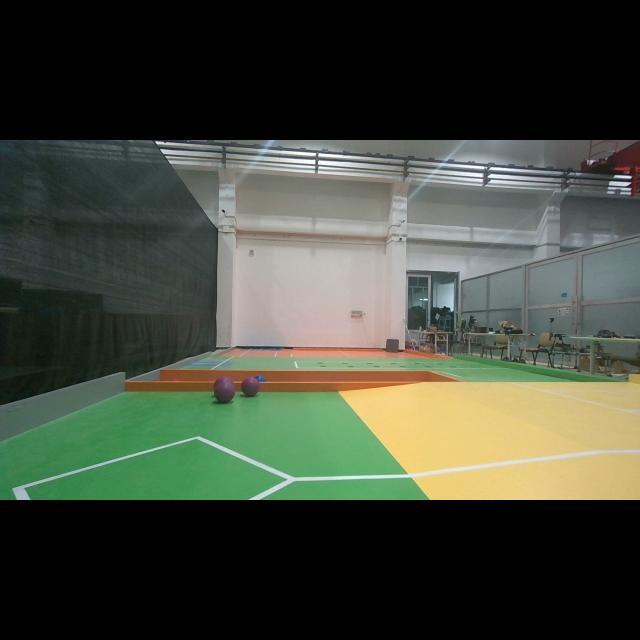P: (214, 381, 236, 403), (241, 378, 259, 397)
